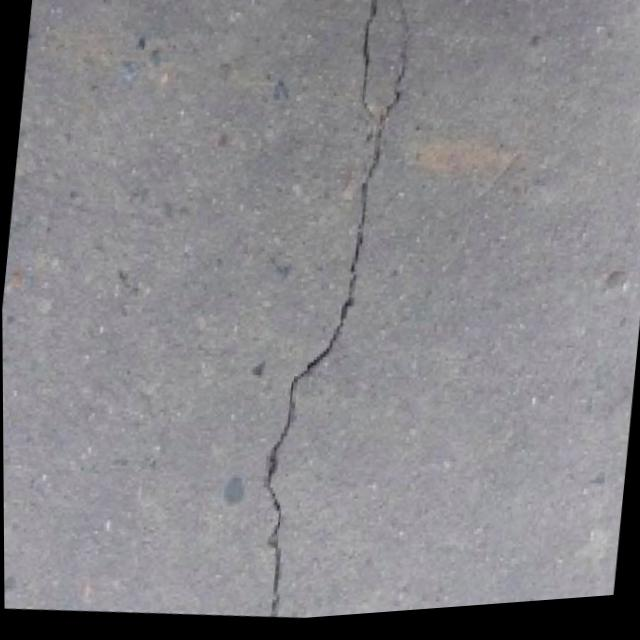Crack: (217, 0, 449, 627)
